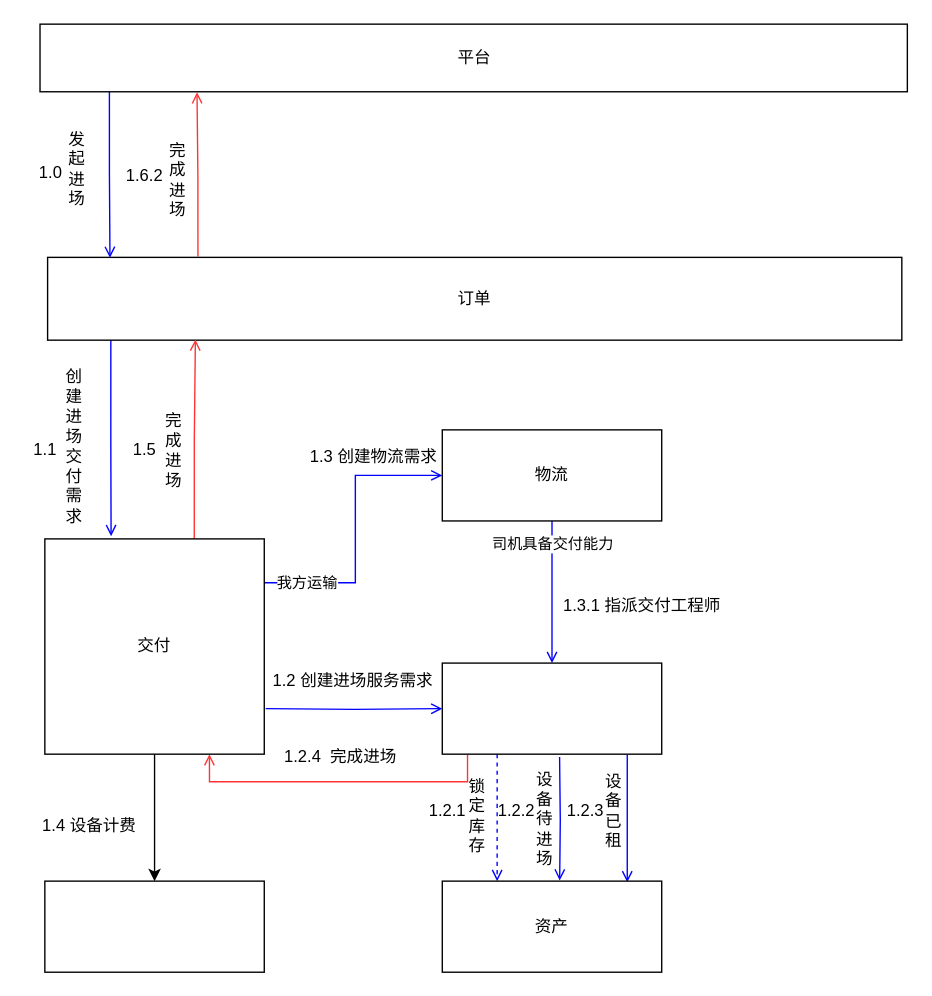
This 932x996 diagram has some shape labels left out. The centre of each missing label's shape, as x and y in pixels:
业财: (153,926)
服务: (551,708)
